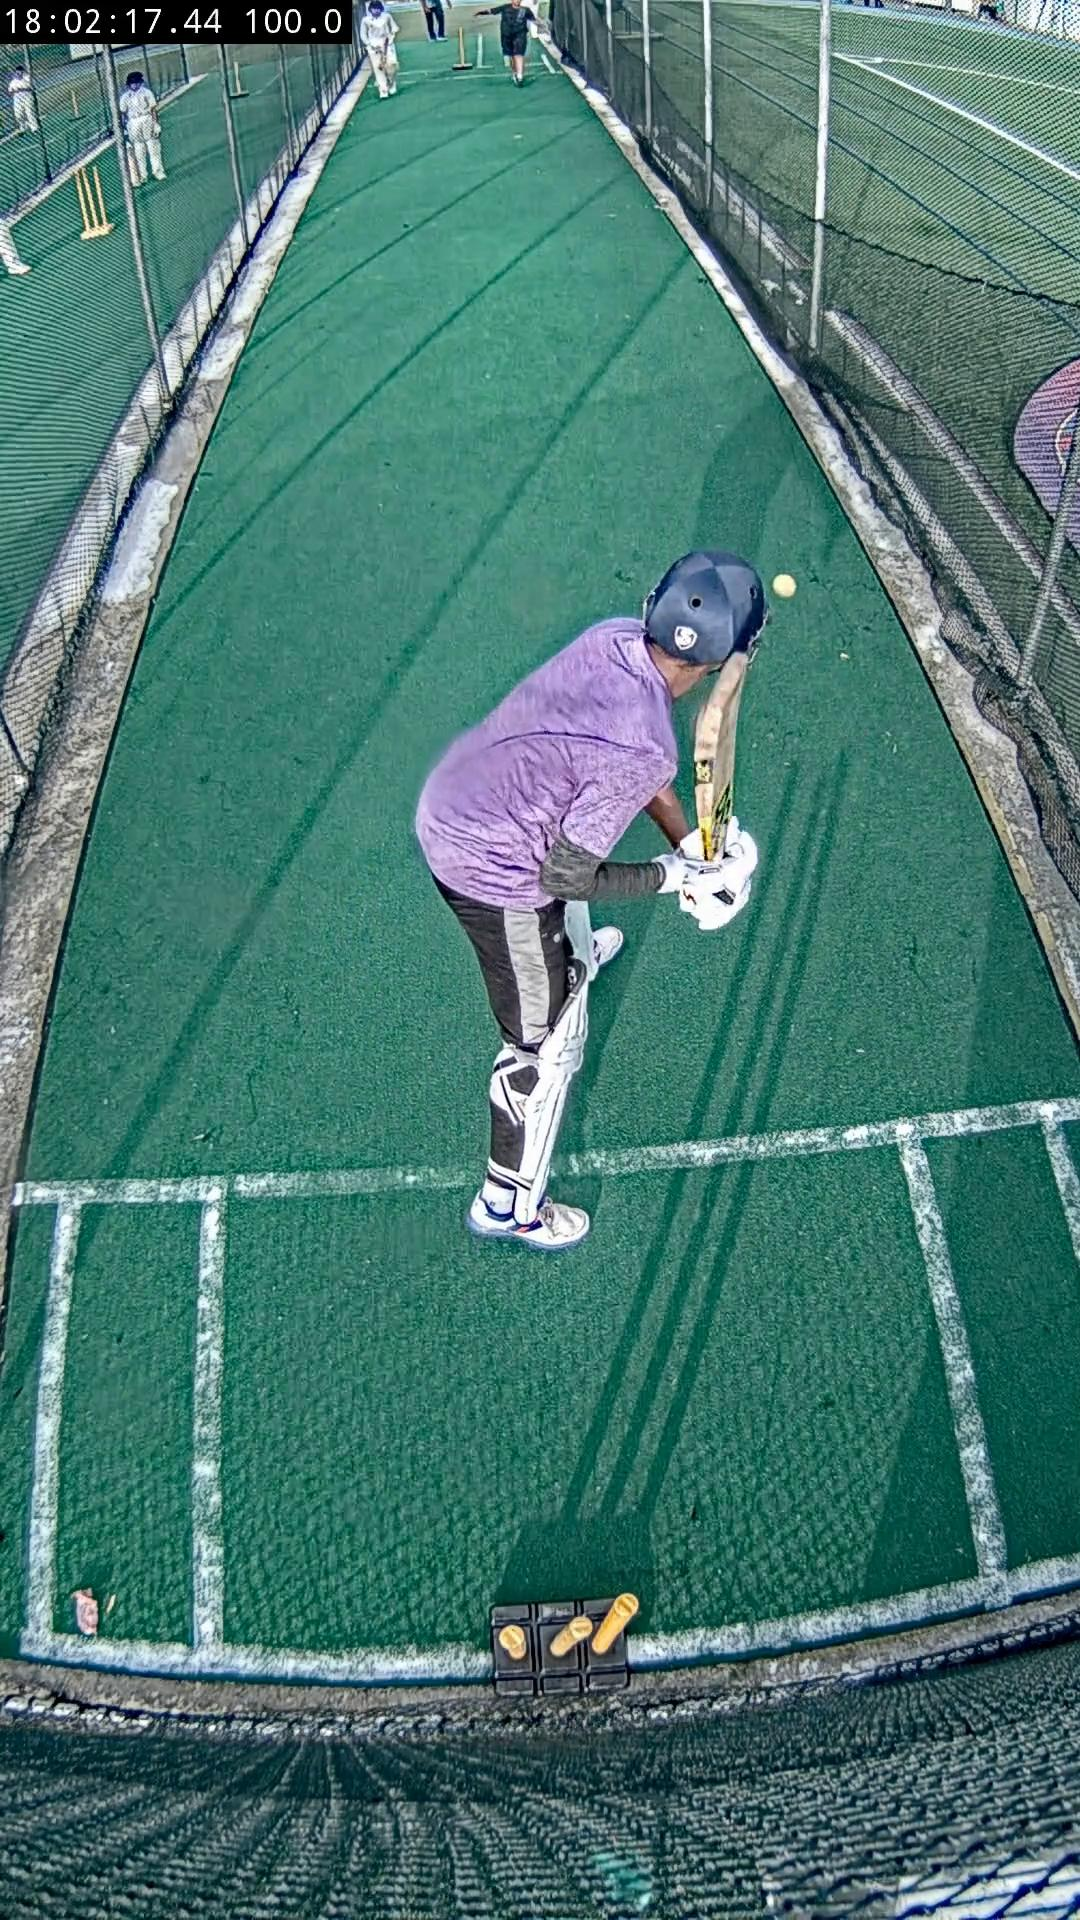ball: (773, 574, 799, 599)
bat: (694, 653, 750, 857)
gloves: (653, 822, 757, 930)
helmet: (641, 551, 765, 663)
pads: (514, 960, 588, 1226), (563, 899, 596, 977)
stumps: (492, 1594, 641, 1693)
